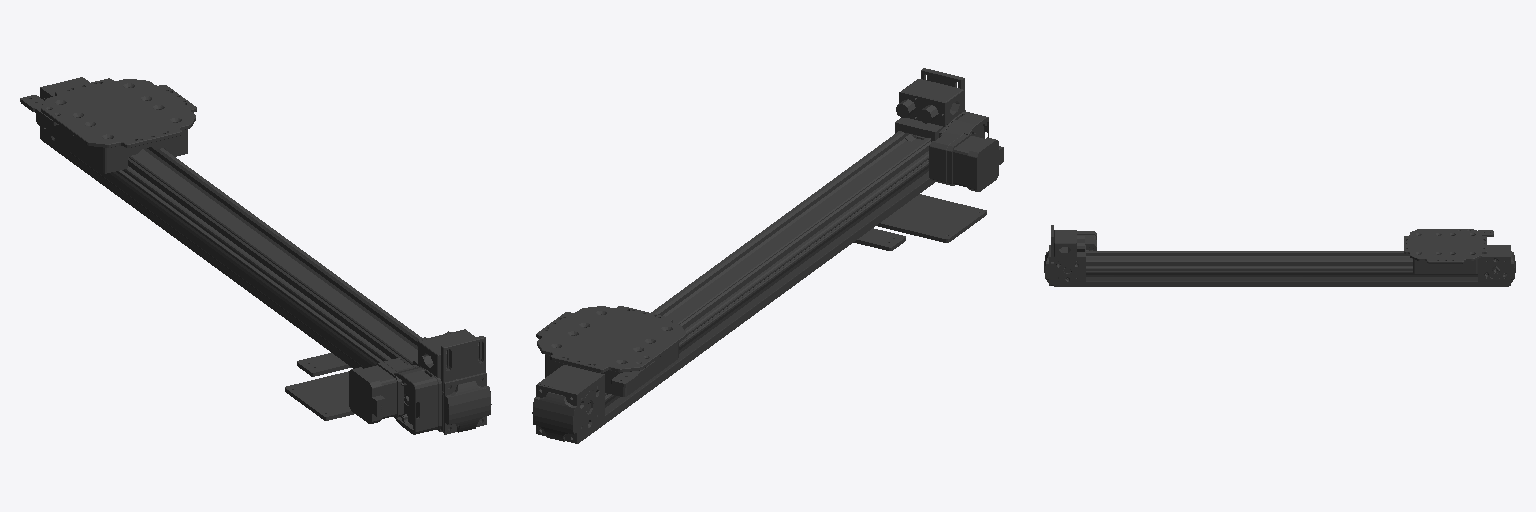
URDF robot description (slider):
<?xml version="1.0" ?>
<!-- =================================================================================== -->
<!-- |    This document was autogenerated by xacro from model.urdf.xacro               | -->
<!-- |    EDITING THIS FILE BY HAND IS NOT RECOMMENDED                                 | -->
<!-- =================================================================================== -->
<robot name="slider">
  <link name="world"/>
  <joint name="fixed" type="fixed">
    <origin rpy="0 0 0" xyz="0 0 0.012755"/>
    <parent link="world"/>
    <child link="Base"/>
  </joint>
  <link name="Base">
    <static>true</static>
    <inertial>
      <origin rpy="1.570796327 0 0" xyz="0 0.0 0.01"/>
      <mass value="4"/>
      <inertia ixx="0.15" ixy="0.0" ixz="0.0" iyy="0.15" iyz="0.0" izz="0.15"/>
    </inertial>
    <!--contact_coefficients>
        <mu "0"/>
        <kp "10"/>
        <kd "10"/>
    </contact_coefficients-->
    <visual>
      <geometry>
        <mesh filename="package://slider/urdf/STL-Files/slider_description/linearschiene.STL" scale="0.00092 0.00092 0.00092"/>
      </geometry>
      <origin rpy="1.570796327 0 0" xyz="0 0.2869 0.02"/>
      <material name="">
        <color rgba="0.3 0.3 0.3 1"/>
      </material>
    </visual>
    <collision>
      <origin rpy="1.570796327 0 0" xyz="0 0.2869 0.02"/>
      <geometry>
        <mesh filename="package://slider/urdf/STL-Files/slider_description/linearschiene.STL" scale="0.00092 0.00092 0.00092"/>
      </geometry>
    </collision>
  </link>
  <gazebo reference="Base">
    <material>Gazebo/Grey</material>
    <mu1>0.0</mu1>
    <mu2>0.0</mu2>
  </gazebo>
  <link name="wagen">
    <inertial>
      <origin rpy="1.570796327 0 0" xyz="0 0.735 0.022"/>
      <mass value="0.6"/>
      <inertia ixx="0.001" ixy="0.0" ixz="0.0" iyy="0.001" iyz="0.0" izz="0.001"/>
    </inertial>
    <!--contact_coefficients>
        <mu "0"/>
        <kp "10"/>
        <kd "10"/>
    </contact_coefficients-->
    <visual>
      <geometry>
        <mesh filename="package://slider/urdf/STL-Files/slider_description/wagen.STL" scale="0.00092 0.00092 0.00092"/>
      </geometry>
      <origin rpy="1.570796327 0 0" xyz="0 0.735 0.022"/>
      <material name="">
        <color rgba="0.3 0.3 0.3 1"/>
      </material>
    </visual>
    <collision>
      <origin rpy="1.570796327 0 0" xyz="0 0.735 0.022"/>
      <geometry>
        <mesh filename="package://slider/urdf/STL-Files/slider_description/wagen.STL" scale="0.00092 0.00092 0.00092"/>
      </geometry>
      <surface>
        <contact>
          <ode>
            <mu1>100.0</mu1>
            <mu1>100.0</mu1>
            <kp>1e15</kp>
            <kd>1e13</kd>
          </ode>
        </contact>
      </surface>
    </collision>
  </link>
  <gazebo reference="wagen">
    <material>Gazebo/Grey</material>
    <mu1>1000.0</mu1>
    <mu2>1000.0</mu2>
  </gazebo>
  <joint name="Joint_slide" type="prismatic">
    <axis xyz="0 1 0"/>
    <limit effort="1.0" lower="-0.47" upper="0" velocity="0.1"/>
    <dynamics damping="1.4" friction="0"/>
    <parent link="Base"/>
    <child link="wagen"/>
    <origin rpy=" 0 0 0" xyz="0 0 0.0"/>
  </joint>
  <transmission name="joint_slide_trans">
    <type>transmission_interface/SimpleTransmission</type>
    <actuator name="$joint_slide_motor">
      <mechanicalReduction>1</mechanicalReduction>
    </actuator>
    <joint name="Joint_slide">
      <hardwareInterface>hardware_interface/EffortJointInterface</hardwareInterface>
    </joint>
  </transmission>
  <gazebo>
    <plugin filename="libgazebo_ros_control.so" name="gazebo_ros_control">
      <!--robotNamespace>/</robotNamespace-->
    </plugin>
    <kp>1000000.0</kp>
    <kd>1.0</kd>
    <mu1>100.0</mu1>
    <mu2>100.0</mu2>
    <maxVel>0.1</maxVel>
    <minDepth>0.001</minDepth>
  </gazebo>
</robot>

--- What the picture shows (computed from the rendered views, not written in the file) ---
3 views of the same robot in one strip: view 1: azimuth 30°, elevation 25°; view 2: azimuth 150°, elevation 25°; view 3: azimuth 270°, elevation 25° (orthographic).
Robot: slider — 3 links, 2 joints (1 prismatic, 1 fixed); root link world; default pose: all joints at 0.
Links seen in each view (by area): view 1: Base, wagen; view 2: Base, wagen; view 3: Base, wagen.
Link boxes in pixels (left/top/right/bottom): Base: left=36, top=77, right=491, bottom=434; wagen: left=20, top=78, right=196, bottom=173; Base: left=532, top=68, right=1003, bottom=443; wagen: left=536, top=306, right=686, bottom=396; Base: left=1044, top=225, right=1515, bottom=286; wagen: left=1404, top=229, right=1493, bottom=273.
Size in the robot's own frame: 0.1513 by 0.6955 by 0.0842 metres.
Meshes: 2 distinct files referenced, 2 mesh visuals loaded (2 binary STL).